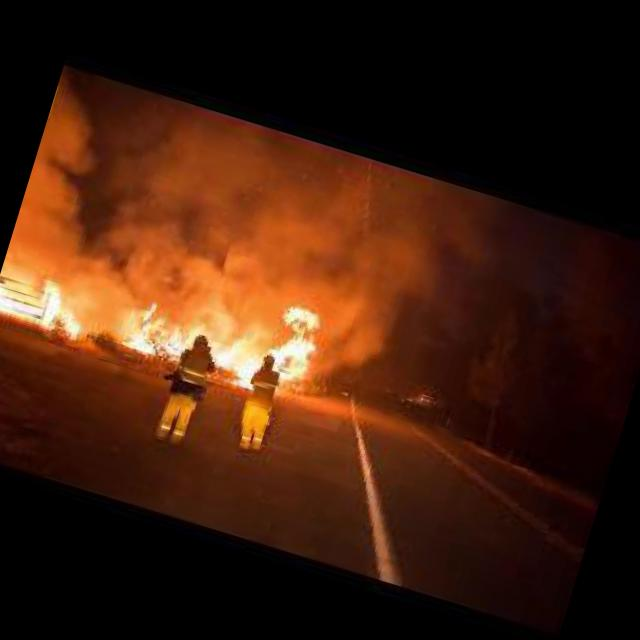fire: (120, 265, 326, 407)
smoke: (3, 69, 324, 340), (312, 194, 453, 366)
